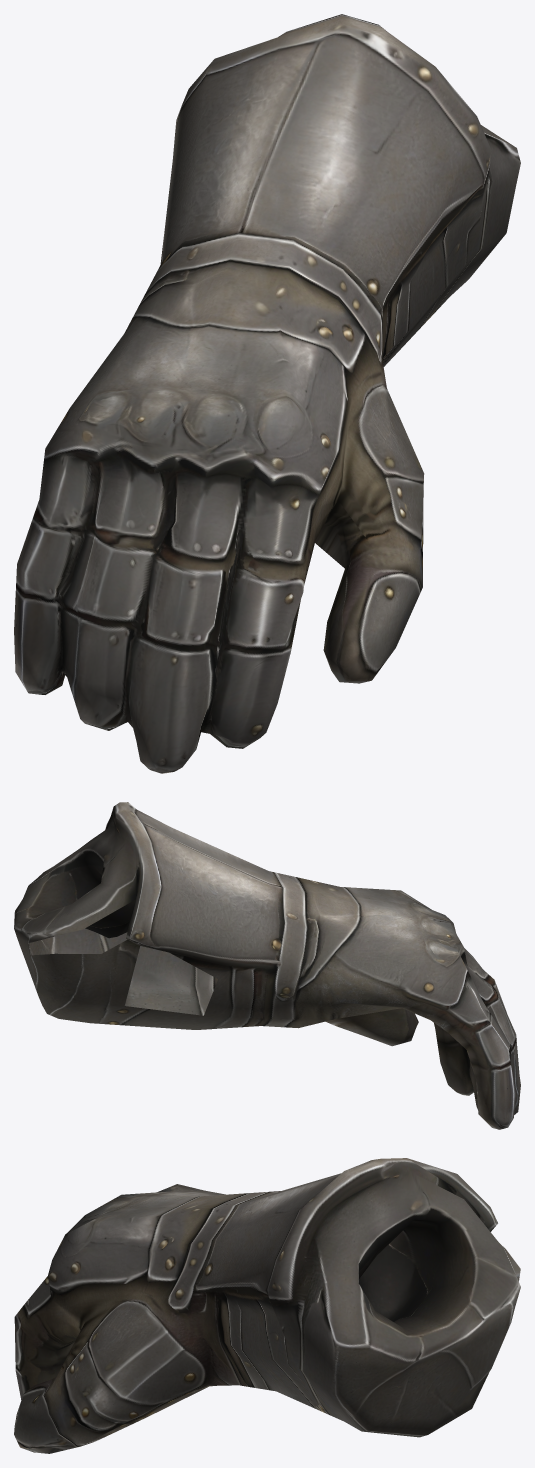
Rendered from iron_gauntlet.glb.
3 views of the same model, one above another, from view 1: azimuth 30°, elevation 25°; view 2: azimuth 150°, elevation 25°; view 3: azimuth 270°, elevation 25° (orthographic). The views are drawn at different scales.
Visible parts, largest first — view 1: Mesh0; view 2: Mesh0; view 3: Mesh0.
Part boxes in pixels (left/top/right/bottom): Mesh0: left=14, top=14, right=520, bottom=773; Mesh0: left=14, top=802, right=520, bottom=1129; Mesh0: left=14, top=1158, right=520, bottom=1453.
Size of the model in its own units: 1.9 by 1.55 by 1.69.
1 material, 1 textured.
